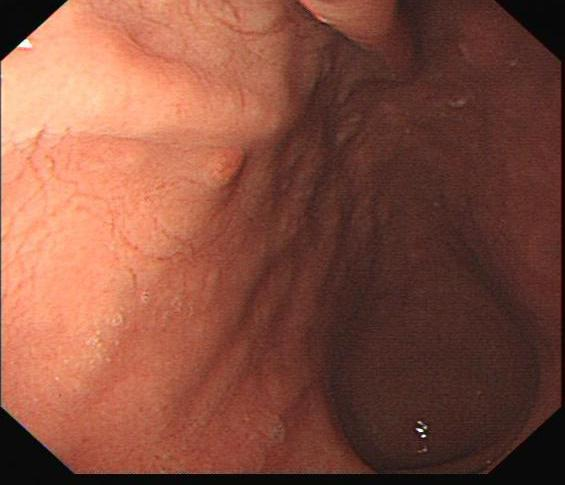Polyp: (196, 136, 254, 187)
